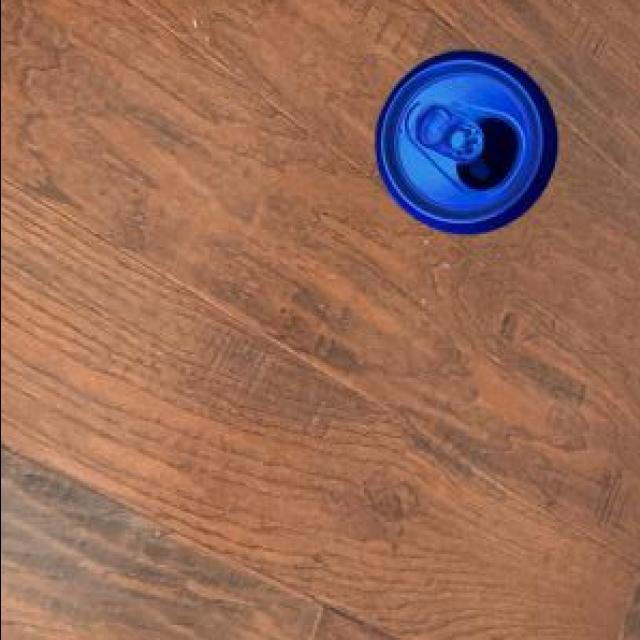logam: (379, 55, 559, 237)
